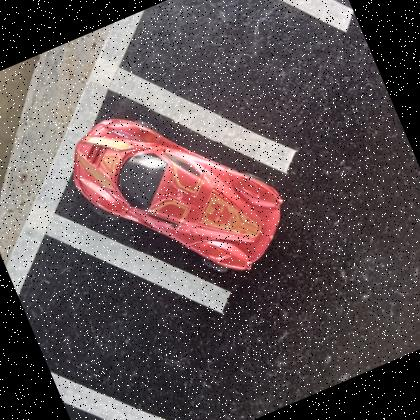Car: (70, 115, 283, 270)
